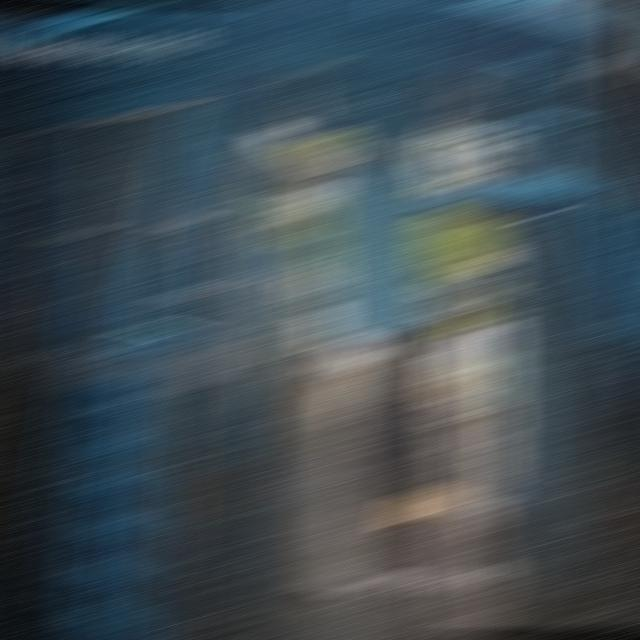cement_mixer_truck: (340, 265, 458, 470)
